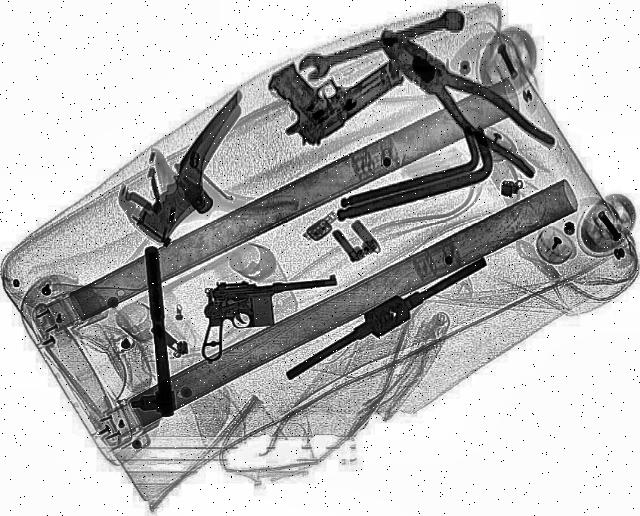Gun: (240, 24, 414, 150), (188, 272, 346, 362)
Pliers: (358, 20, 572, 178)
Wrench: (295, 5, 469, 80)
